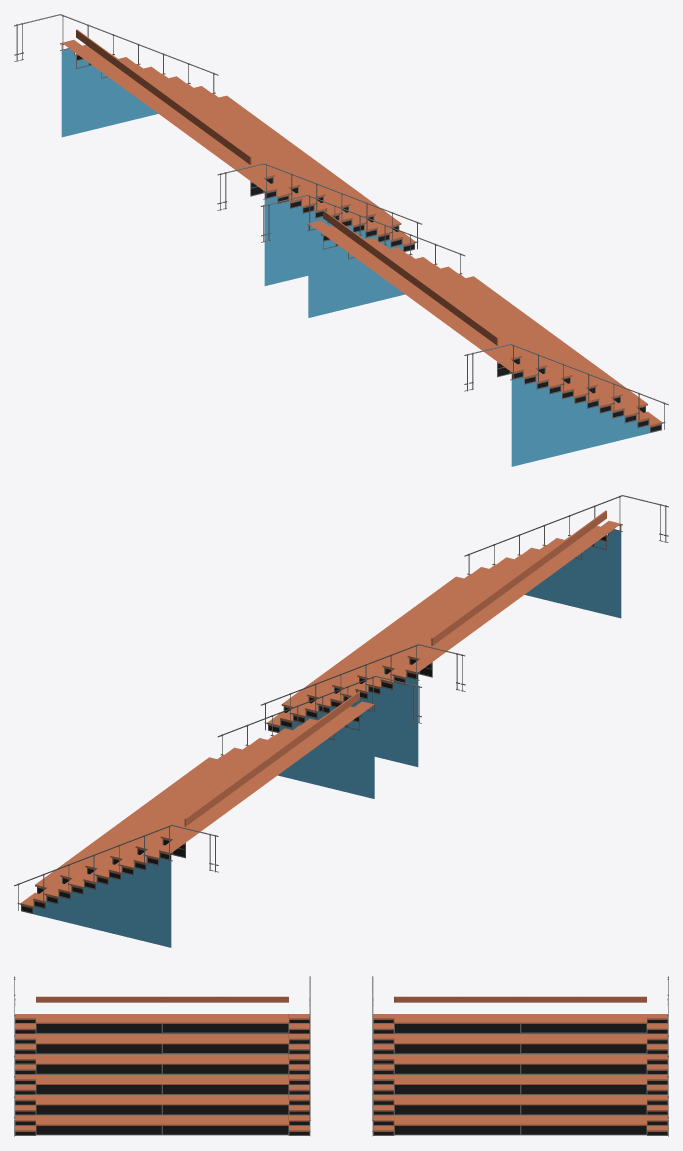
The model's file is stairs.fbx.
The picture shows the model from 3 angles, top to bottom: view 1: azimuth 30°, elevation 25°; view 2: azimuth 150°, elevation 25°; view 3: azimuth 270°, elevation 25°; orthographic projection. The views are drawn at different scales.
Visible parts, largest first — view 1: stairs, railing; view 2: stairs, railing; view 3: stairs, railing.
Part boxes in pixels (x1,y1,x2,y2): stairs: [61, 29, 662, 466]; railing: [14, 14, 668, 429]; stairs: [20, 510, 621, 947]; railing: [14, 495, 668, 910]; stairs: [15, 996, 667, 1135]; railing: [14, 976, 668, 1136].
Size of the model in its own units: 8.12 by 4.71 by 31.08.
